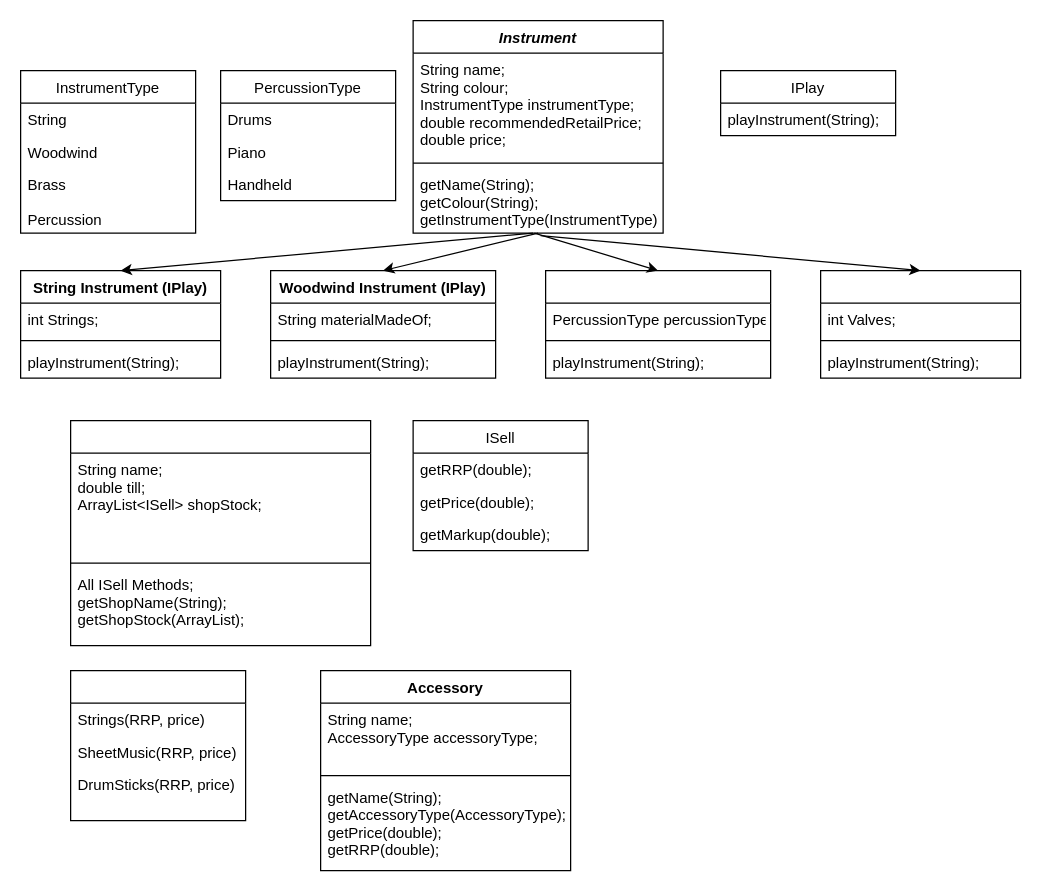
The diagram is 1041 pixels wide and 891 high, and some of its shapes have lost their labels. Each missing label, with the box of its shape:
AccessoryType: (69, 669, 246, 821)
Brass Instrument (IPlay): (819, 269, 1021, 378)
Music Shop (ISell): (69, 419, 371, 646)
Percussion Instrument (IPlay): (544, 269, 771, 378)
